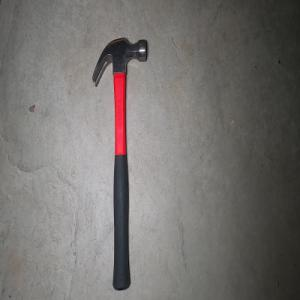Hammer: (91, 35, 147, 290)
